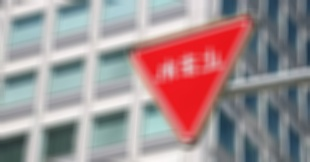Regulatory_sign_triangle: (121, 14, 253, 149)
